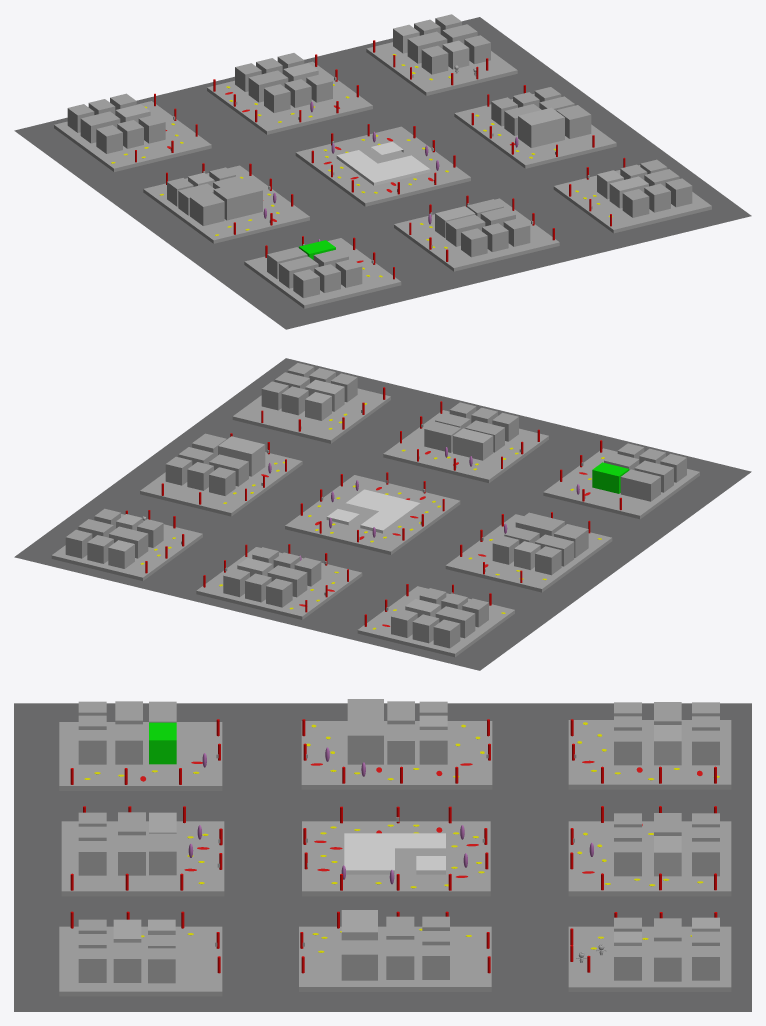
File: MDL_Prot_MG1_M3.fbx
3 renders of one model, top to bottom at view 1: azimuth 30°, elevation 25°; view 2: azimuth 150°, elevation 25°; view 3: azimuth 270°, elevation 25°, orthographic. The views are drawn at different scales.
Visible parts, largest first — view 1: pPlane1, pCube105, pCube98, pCube104, pCube106, pCube99, pCube102, pCube7, pCube103, pCube100, pCube107, pCube47 (+29 smaller); view 2: pPlane1, pCube105, pCube102, pCube103, pCube104, pCube106, pCube100, pCube98, pCube99, pCube7, pCube107, pCube47 (+32 smaller); view 3: pPlane1, pCube105, pCube104, pCube102, pCube106, pCube100, pCube98, pCube99, pCube103, pCube7, pCube107, pCube58 (+34 smaller).
Part boxes in pixels (x1,y1,x2,y2): pPlane1: (14, 17, 751, 329); pCube105: (295, 126, 470, 206); pCube98: (207, 61, 372, 134); pCube104: (143, 165, 309, 243); pCube106: (454, 93, 616, 168); pCube99: (54, 101, 211, 171); pCube102: (394, 198, 559, 271); pCube7: (366, 42, 517, 95); pCube103: (553, 165, 711, 233); pCube100: (244, 238, 401, 308); pCube107: (336, 141, 430, 185); pCube47: (518, 107, 564, 147); pPlane1: (14, 358, 751, 670); pCube105: (285, 475, 460, 554); pCube102: (383, 410, 548, 482); pCube103: (232, 388, 390, 443); pCube104: (445, 514, 612, 592); pCube106: (140, 452, 302, 516); pCube100: (543, 448, 699, 519); pCube98: (196, 547, 362, 619); pCube99: (357, 586, 514, 657); pCube7: (51, 514, 202, 580); pCube107: (326, 489, 420, 533); pCube47: (218, 436, 265, 476); pPlane1: (14, 703, 751, 1011); pCube105: (302, 821, 490, 896); pCube104: (301, 721, 492, 789); pCube102: (61, 821, 224, 896); pCube106: (299, 926, 491, 991); pCube100: (59, 722, 222, 790); pCube98: (568, 821, 731, 896); pCube99: (568, 720, 731, 789); pCube103: (59, 926, 222, 996); pCube7: (568, 926, 731, 991); pCube107: (344, 833, 445, 874); pCube58: (347, 712, 383, 764).
Size of the model in its own units: 29.79 by 1.61 by 30.13.
